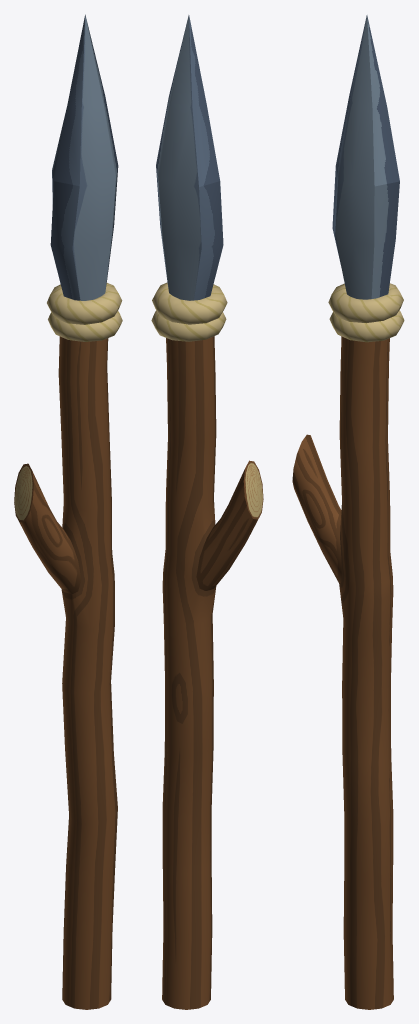
The model's file is Spear.fbx.
3 renders of one model, left to right at view 1: azimuth 30°, elevation 25°; view 2: azimuth 150°, elevation 25°; view 3: azimuth 330°, elevation 25°, orthographic.
Parts seen in each view (by area): view 1: head1; view 2: head1; view 3: head1.
Boxes of the visible parts, <box> form: head1: <box>14,14,122,1009</box>; head1: <box>151,15,263,1009</box>; head1: <box>292,15,404,1009</box>.
Size of the model in its own units: 4.75 by 44.67 by 3.1.
1 material, 1 textured.
